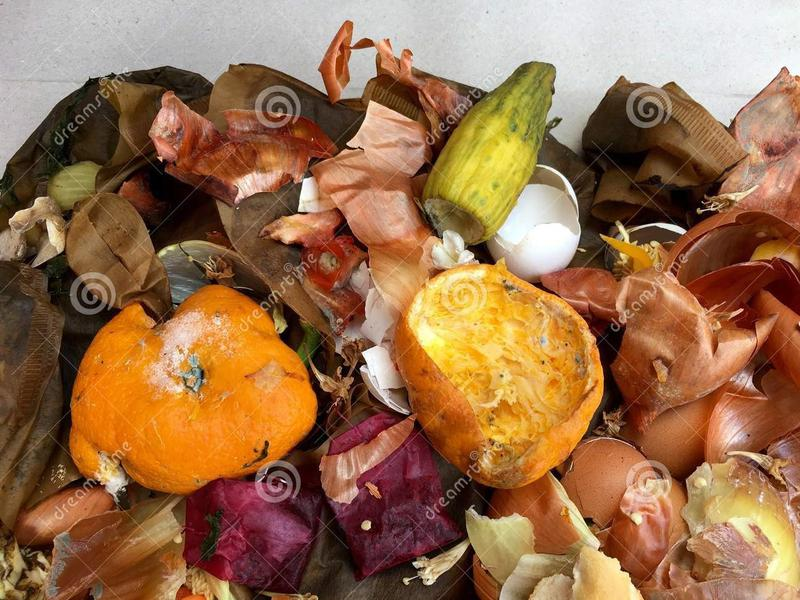vegetation: (17, 23, 799, 600)
